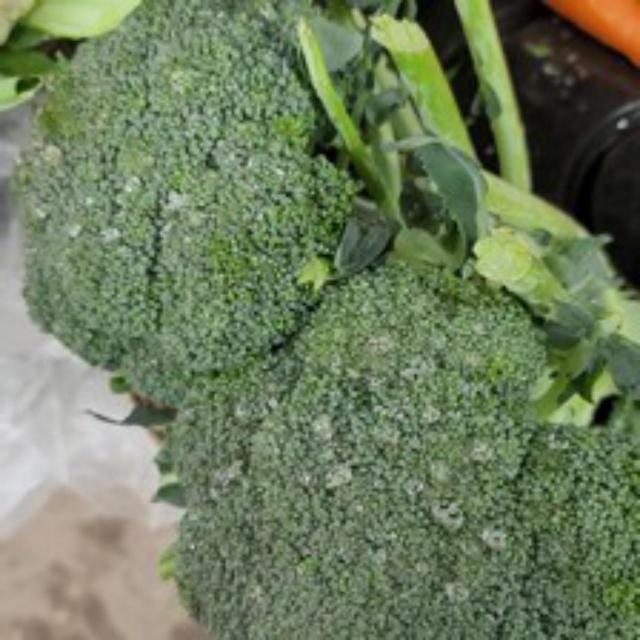broccoli: (131, 246, 637, 636)
